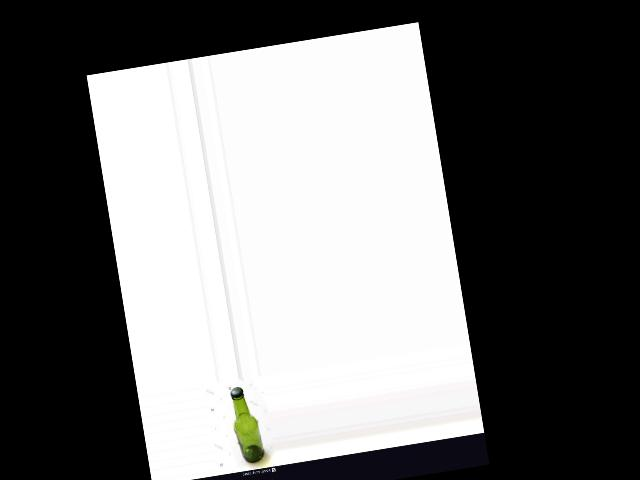beer: (229, 384, 265, 464)
